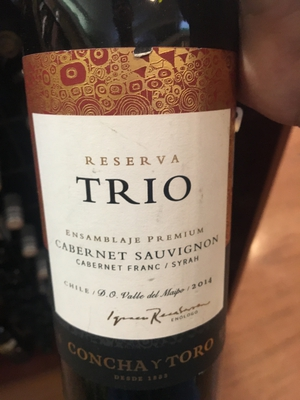trio cabernet sauvignon: (25, 19, 240, 400)
